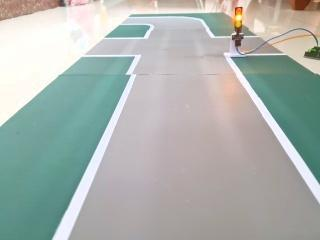yellow: (224, 0, 251, 34)
